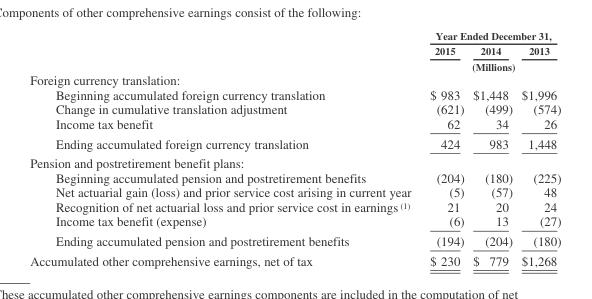table: (29, 29, 560, 267)
table column: (29, 29, 419, 267), (419, 29, 468, 267), (468, 29, 516, 267), (516, 29, 560, 267)
table column header: (29, 29, 560, 72)
table projected row header: (29, 153, 560, 170), (29, 72, 560, 87)
table row: (29, 133, 560, 153), (29, 230, 560, 250), (29, 116, 560, 133), (29, 153, 560, 170), (29, 213, 560, 230), (29, 250, 560, 267), (29, 42, 560, 58), (29, 72, 560, 87), (29, 101, 560, 116), (29, 184, 560, 199), (29, 58, 560, 72), (29, 87, 560, 101), (29, 170, 560, 184), (29, 199, 560, 213), (29, 29, 560, 42)
table spanning cell: (419, 58, 560, 72), (419, 29, 560, 42)
